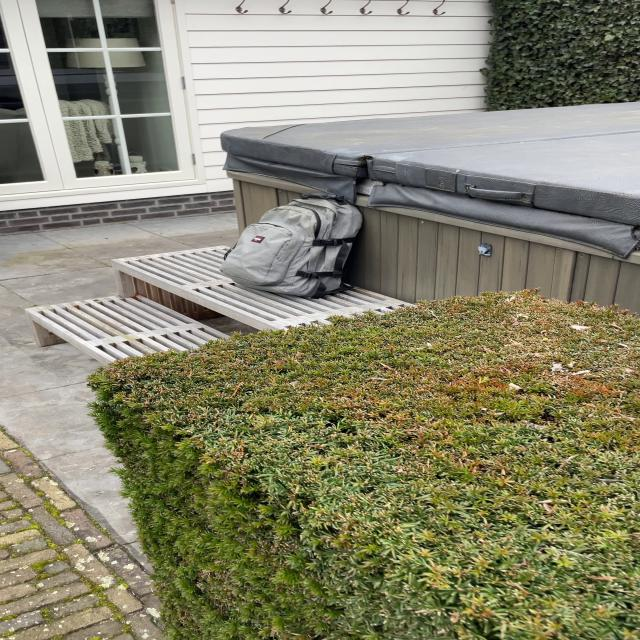backpack: (216, 189, 371, 300)
